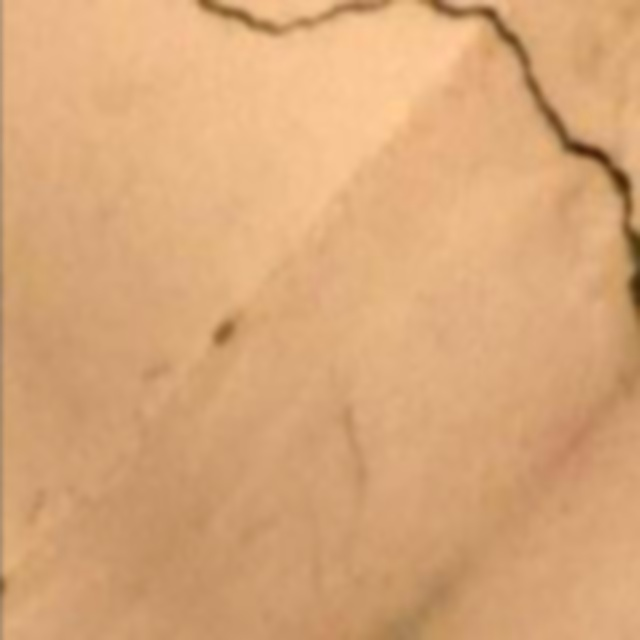SurfaceCrack: (166, 0, 640, 338)
